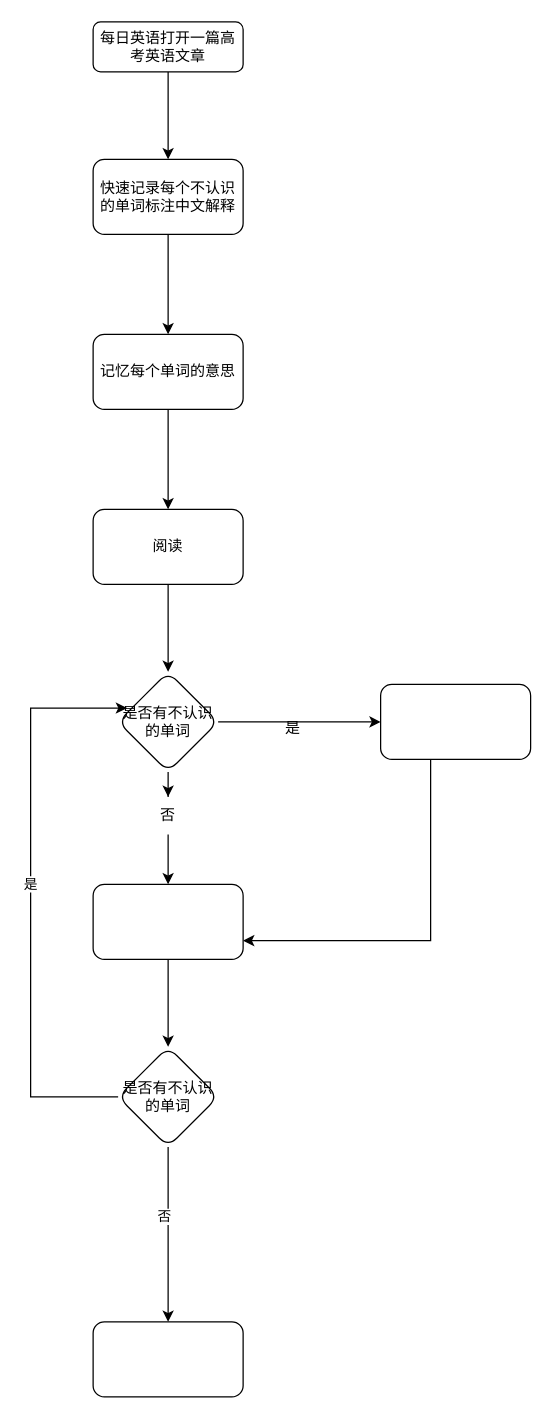
This 553x1419 diagram has some shape labels left out. The shapes that lost their labels are listed below. From the top down, each one's centre as x and y in pixels, then its label:
the point at 455,721: 记录单词
the point at 167,921: 阅读到底
the point at 167,1359: 结束本篇阅读
